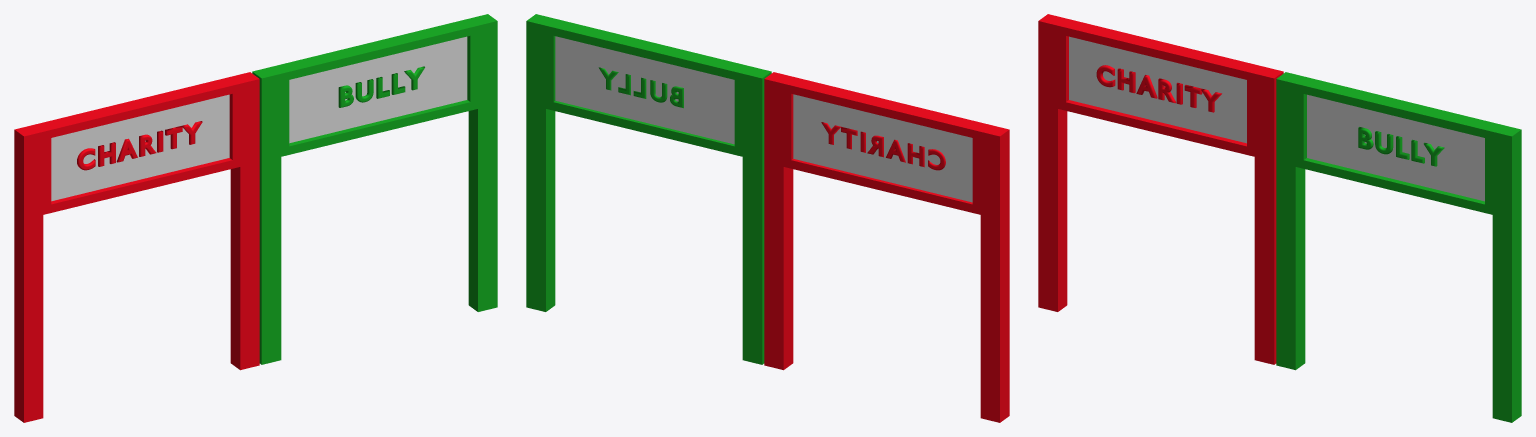
File: BULLY_CHARITY (1).fbx
3 renders of one model, left to right at view 1: azimuth 30°, elevation 25°; view 2: azimuth 150°, elevation 25°; view 3: azimuth 330°, elevation 25°, orthographic.
Parts seen in each view (by area): view 1: CHARITY GATE, BULLY GATE; view 2: CHARITY GATE, BULLY GATE; view 3: BULLY GATE, CHARITY GATE.
Part boxes in pixels (box(x1,y1,x2,y2)): CHARITY GATE: box(14, 72, 259, 422); BULLY GATE: box(252, 14, 497, 364); CHARITY GATE: box(764, 72, 1009, 422); BULLY GATE: box(526, 14, 771, 364); BULLY GATE: box(1276, 72, 1521, 422); CHARITY GATE: box(1038, 14, 1283, 364).
Size of the model in its own units: 1974 by 1141 by 68.85.
